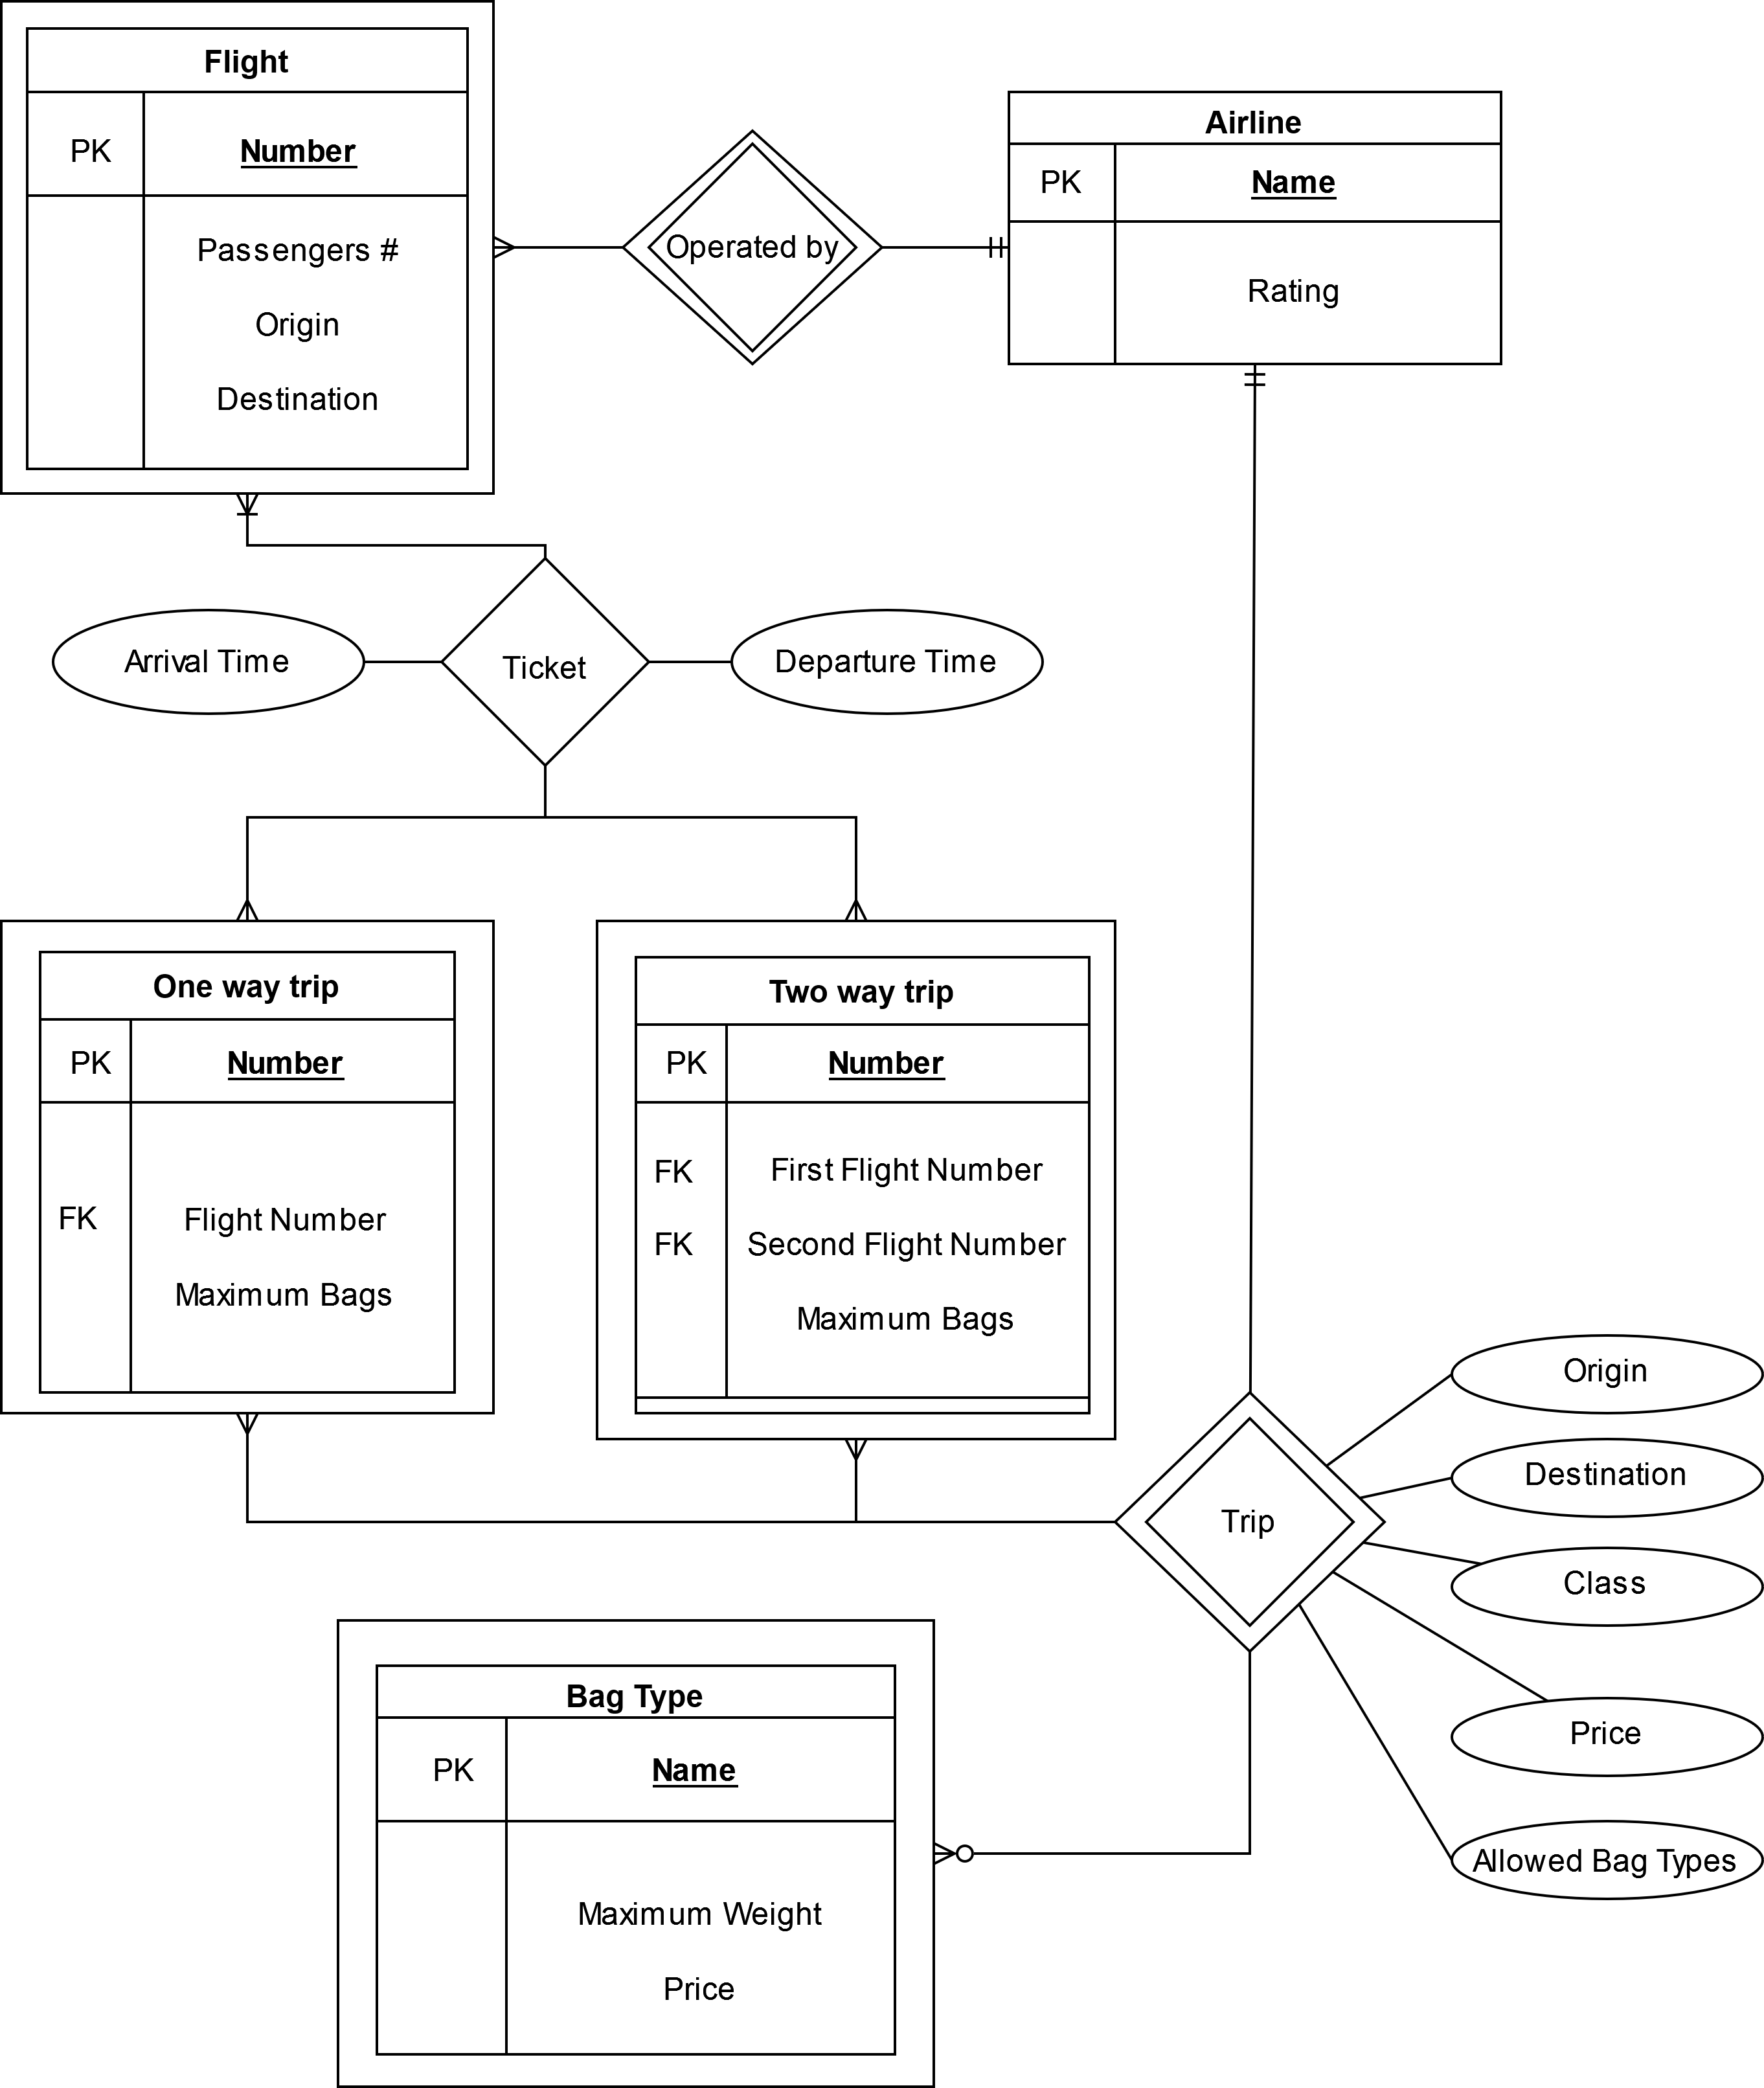entity: (1012, 93, 1503, 361)
ident_rel: (1120, 1395, 1389, 1649), (623, 128, 872, 366)
many: (235, 817, 264, 922), (843, 817, 872, 928), (492, 238, 625, 261), (236, 1416, 261, 1528), (936, 1841, 1031, 1869), (843, 1440, 866, 1528), (235, 494, 259, 544)
one: (880, 236, 1006, 263), (1244, 369, 1269, 480)
rel: (446, 560, 651, 765)
rel_attr: (733, 606, 1047, 718), (58, 611, 364, 716), (1453, 1694, 1764, 1775), (1454, 1334, 1764, 1414), (1453, 1820, 1764, 1899), (1451, 1440, 1760, 1519), (1447, 1549, 1764, 1626)
weak_entity: (336, 1617, 936, 2088), (597, 921, 1120, 1440), (0, 0, 494, 495), (4, 917, 494, 1412)
